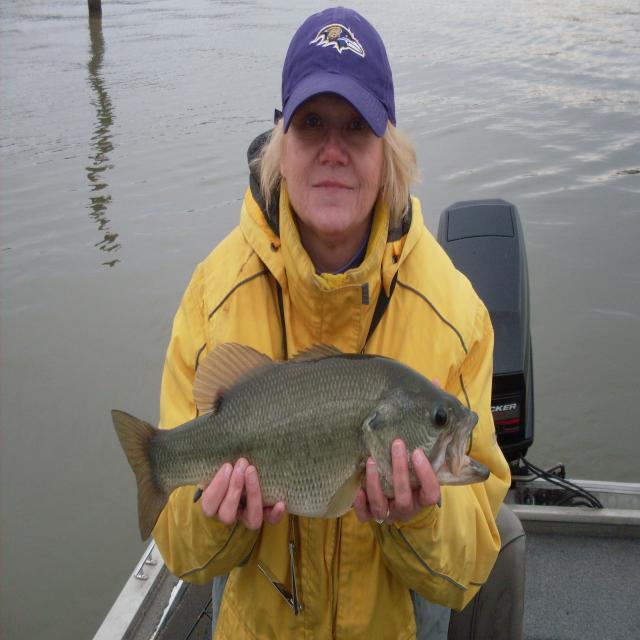Bass - Largemouth: (112, 343, 489, 539)
